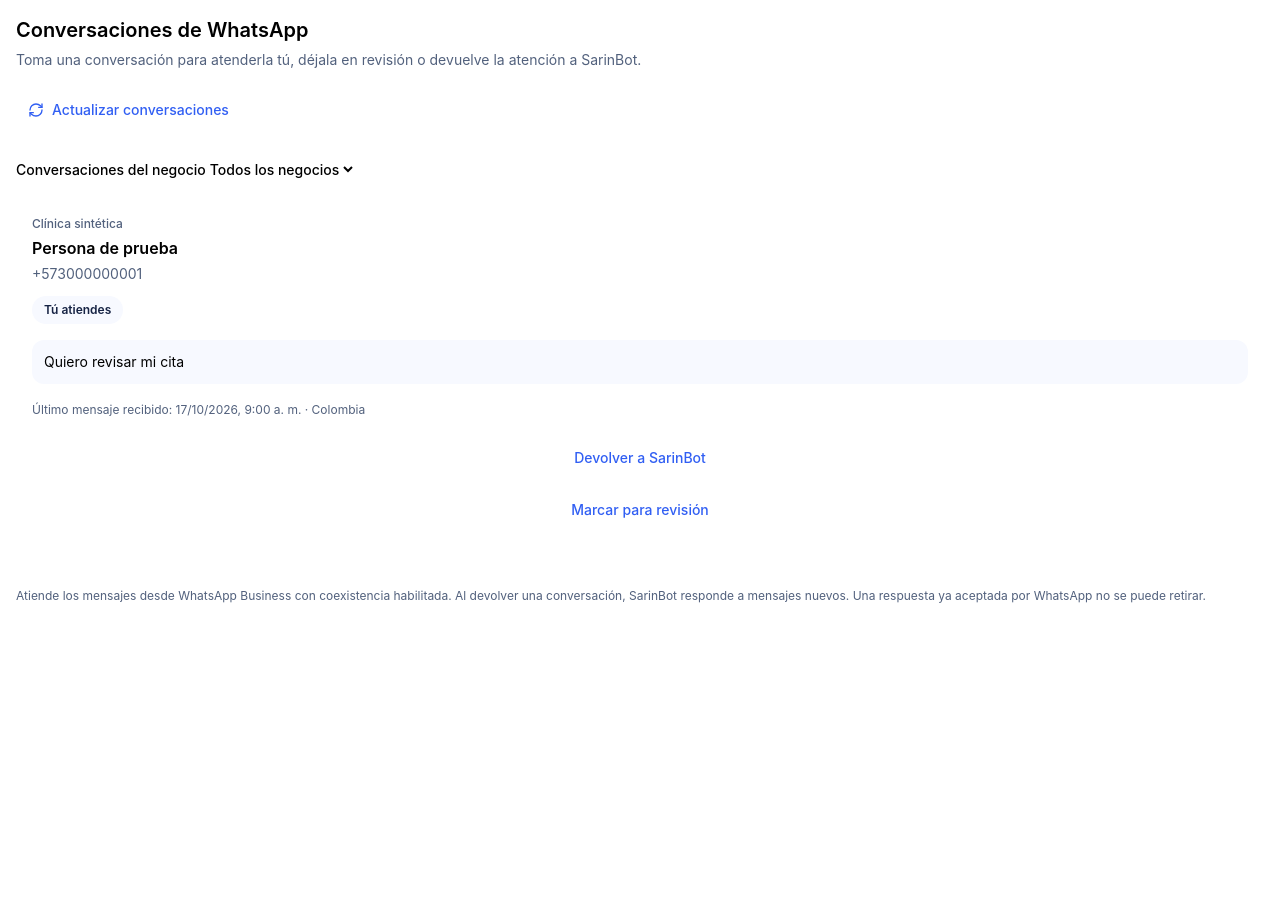
Test: administrative WhatsApp conversation handoff › can return control for new messages or leave a conversation pending review
Click the button "Devolver a SarinBot". click: (640, 458)
box: [32,436,1248,480]
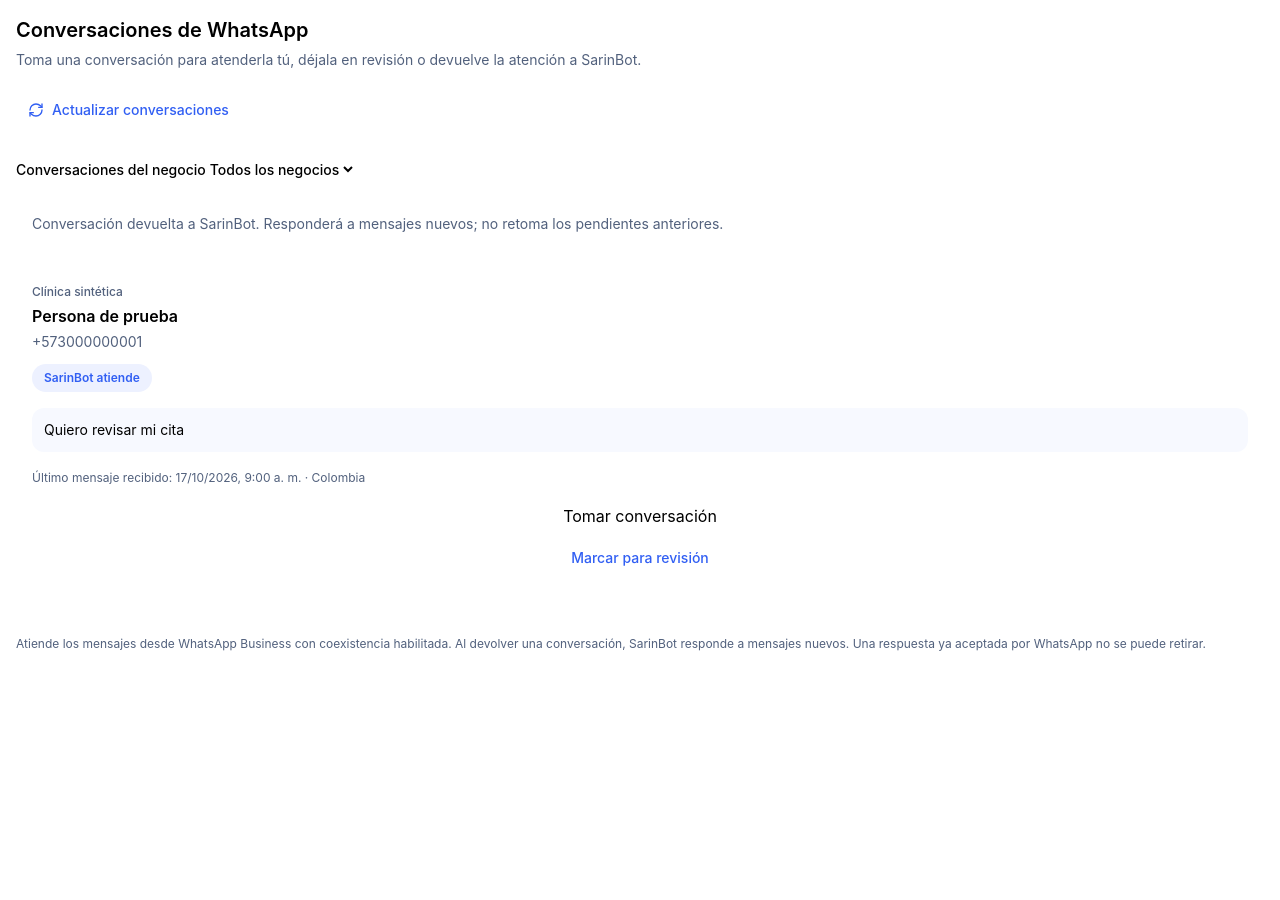
Check: the text "mensajes nuevos" is shown, box [32,215,723,232]
Click the button "Marcar para revisión". click: (640, 558)
box: [32,536,1248,580]
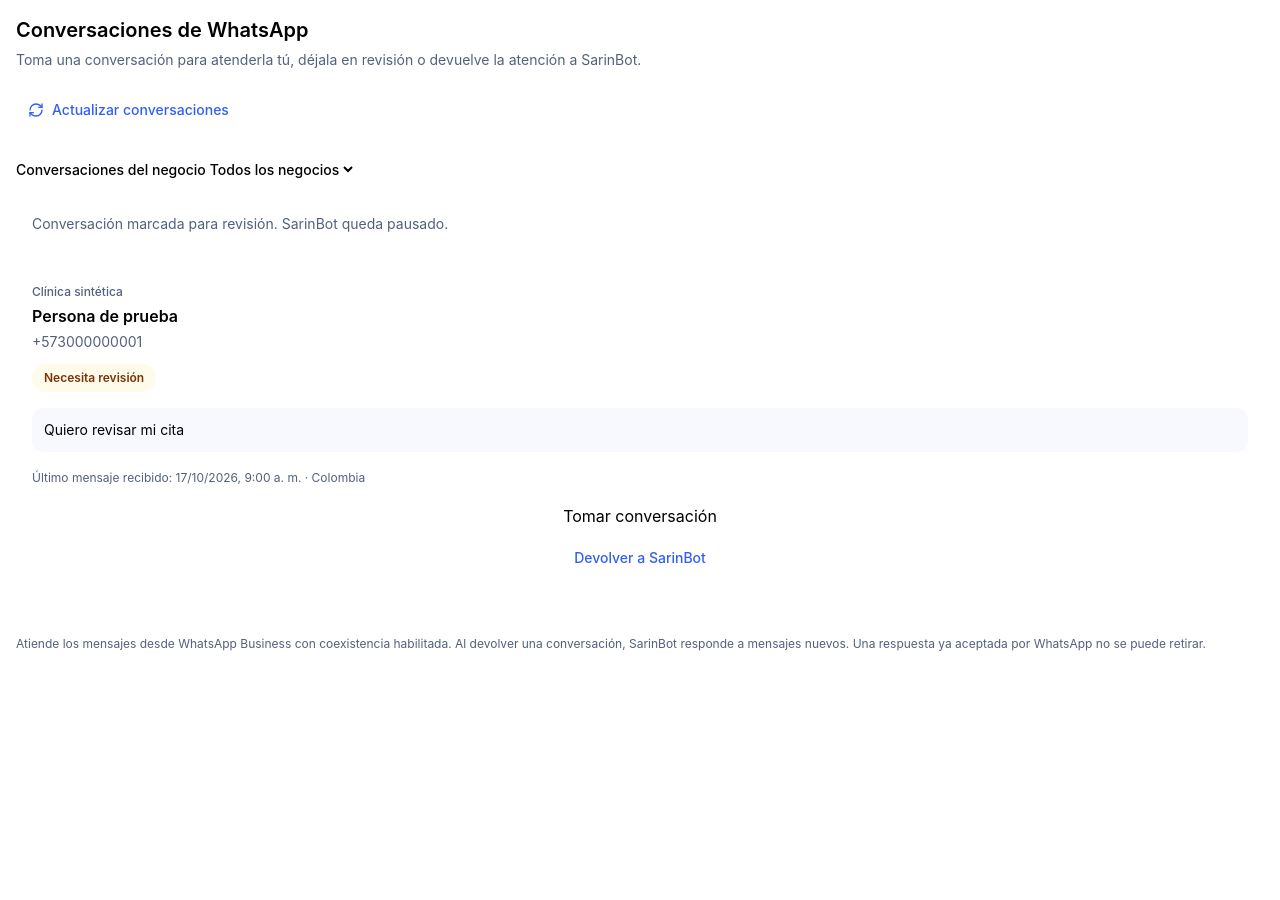
Check: the text "Necesita revisión" is shown, box [32,364,156,392]
